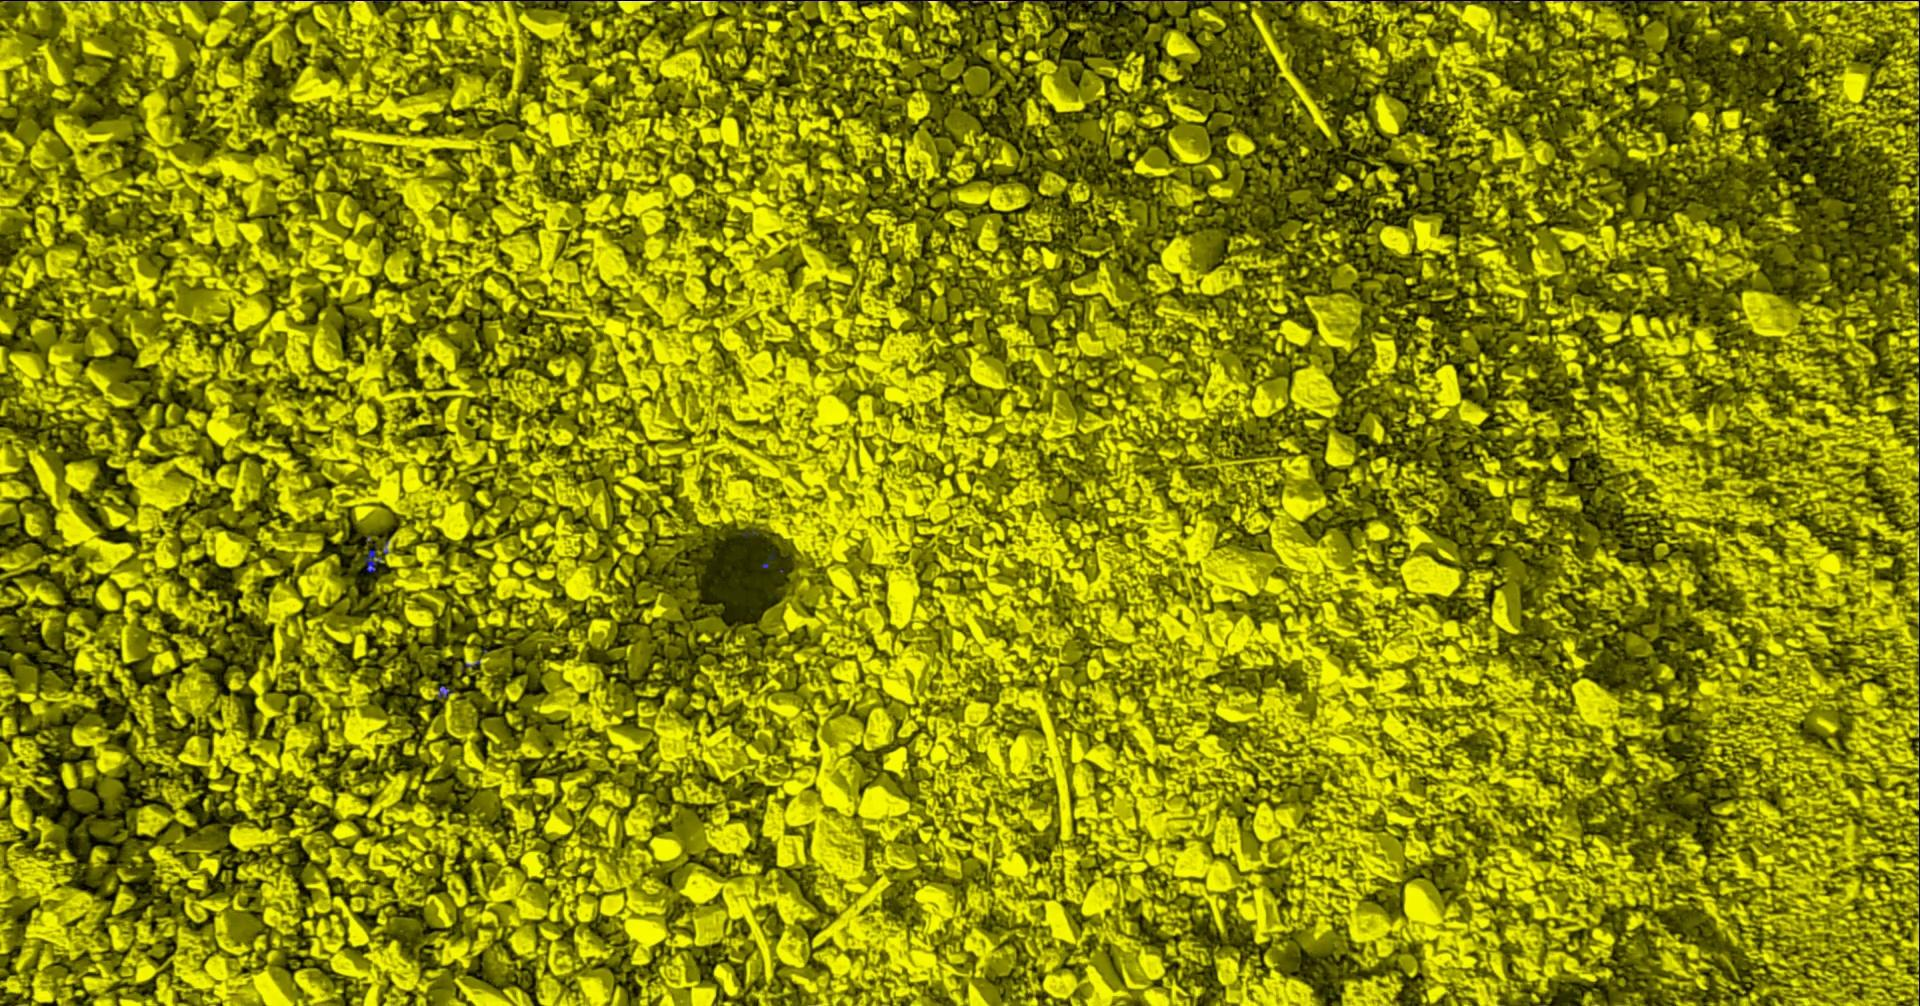ant: (364, 545, 381, 572), (437, 685, 451, 697), (1470, 0, 1529, 3)
